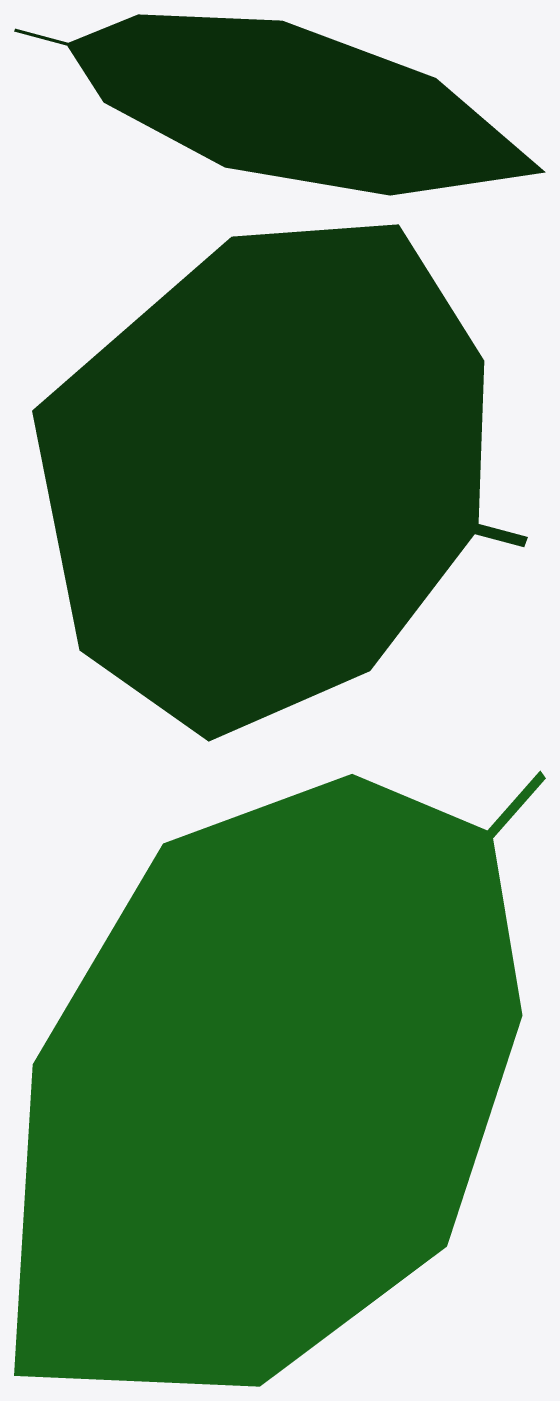
Rendered from Leaves.130.obj.
3 renders of one model, top to bottom at view 1: azimuth 30°, elevation 25°; view 2: azimuth 150°, elevation 25°; view 3: azimuth 270°, elevation 25°, orthographic. The views are drawn at different scales.
Parts seen in each view (by area): view 1: Leaves.130_leaves.130; view 2: Leaves.130_leaves.130; view 3: Leaves.130_leaves.130.
Part boxes in pixels (box(x1,y1,x2,y2)): Leaves.130_leaves.130: box(14, 14, 545, 195); Leaves.130_leaves.130: box(32, 224, 527, 741); Leaves.130_leaves.130: box(14, 770, 545, 1386).
Bounding box in the file's own units: 0.1222 × 0.068 × 0.0777.
